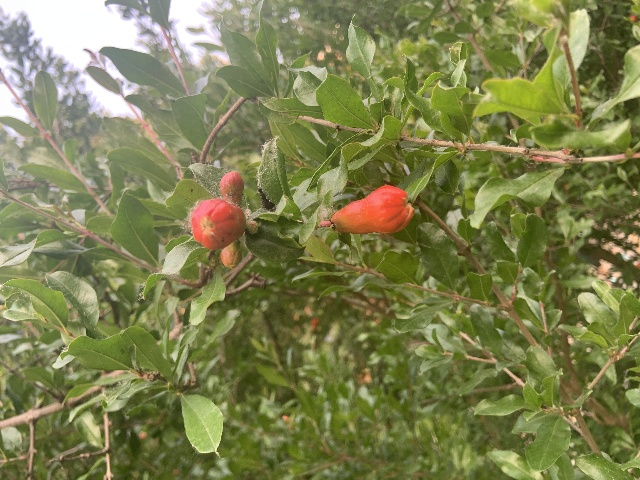bud: (330, 185, 413, 234), (190, 198, 246, 248), (219, 171, 243, 203), (220, 239, 242, 269)
